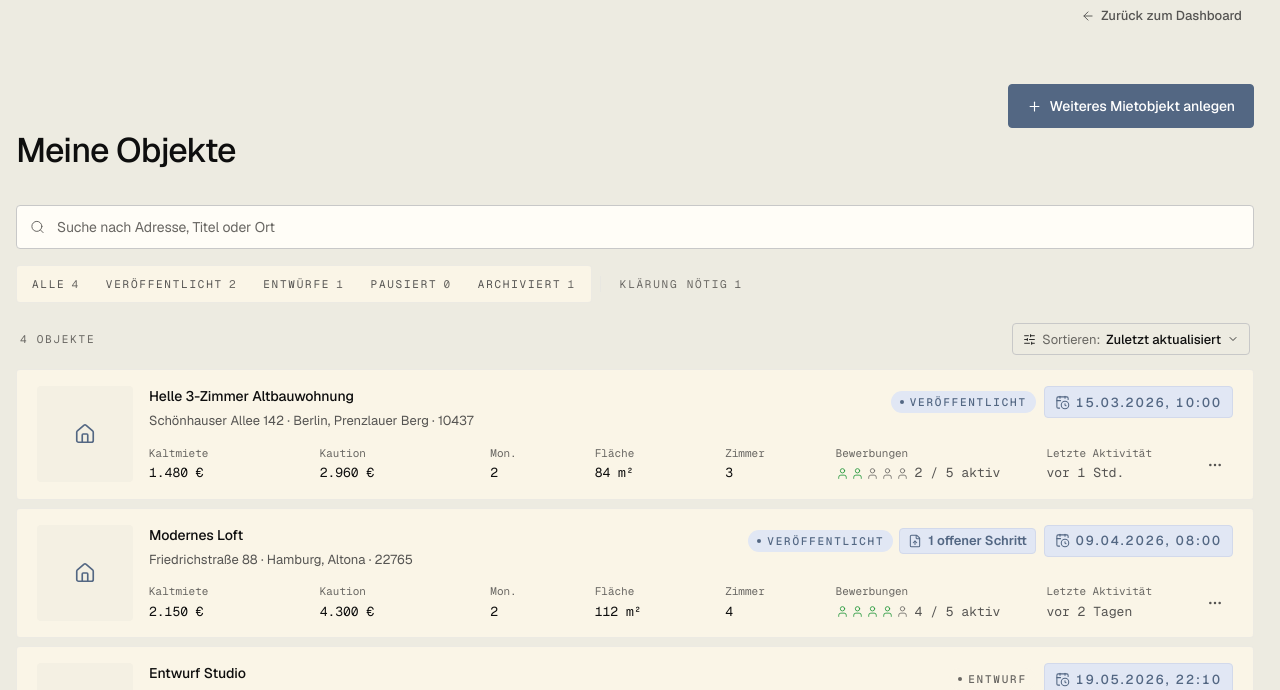
Test: ListingsView › filters by status when the user clicks a filter button
The image size is (1280, 690).
Click the radio button labelled "Entwürfe 1" at (304, 284), box [252,270,356,298]
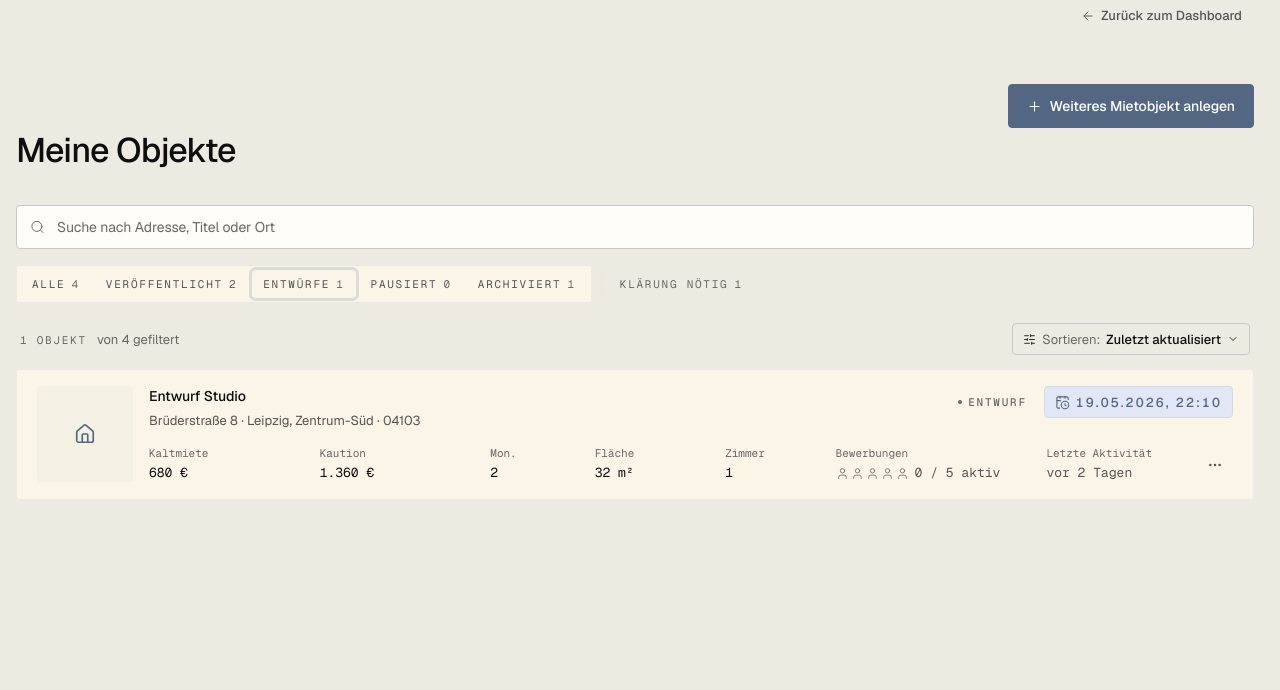
Expected: the button "Helle 3-Zimmer Altbauwohnung" is gone
